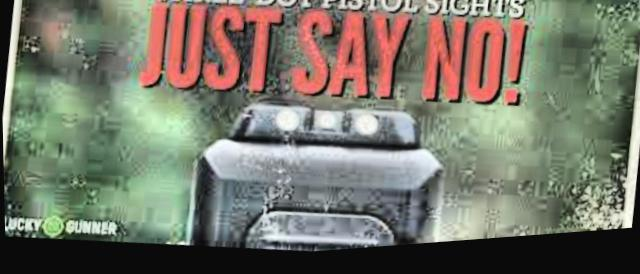pistol: (177, 83, 449, 264)
